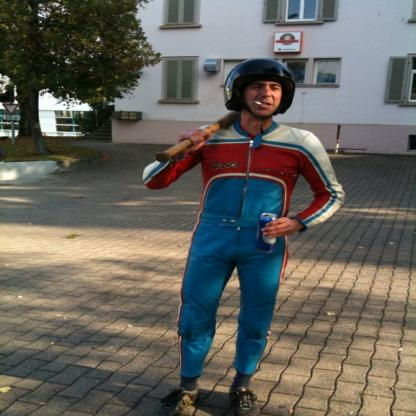Helmet: (225, 52, 301, 120)
